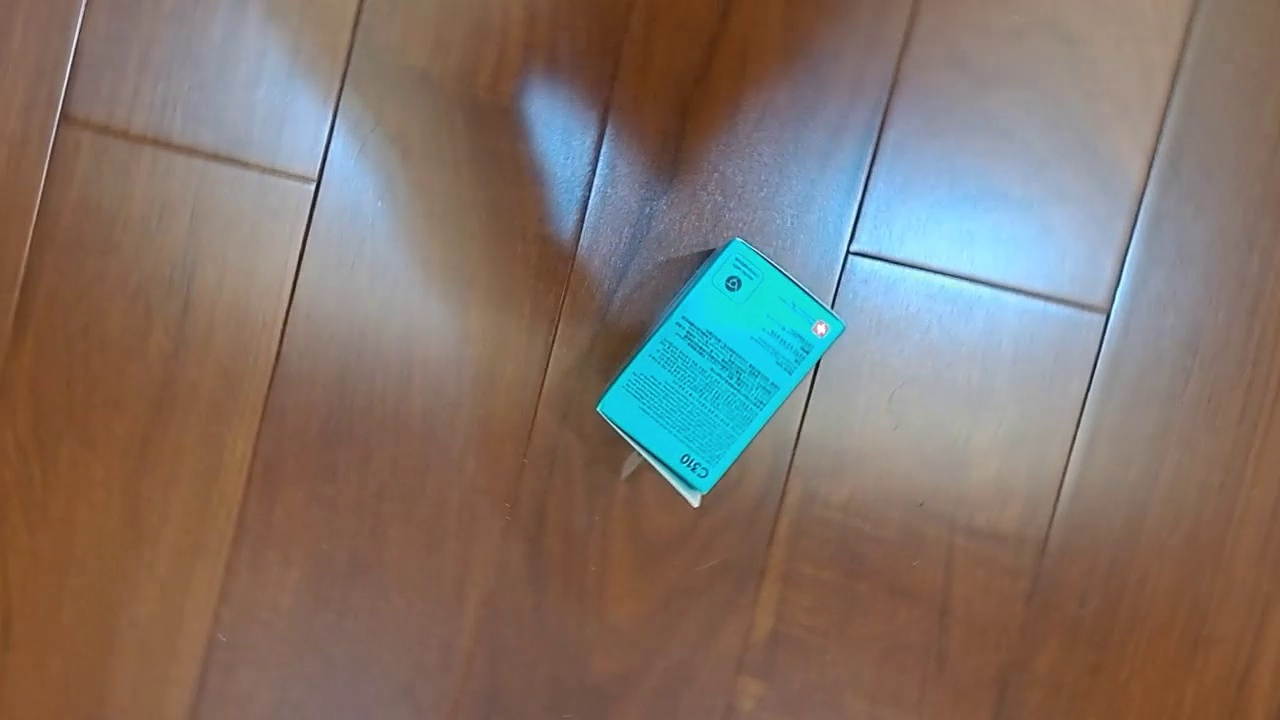webcam: (593, 235, 848, 510)
